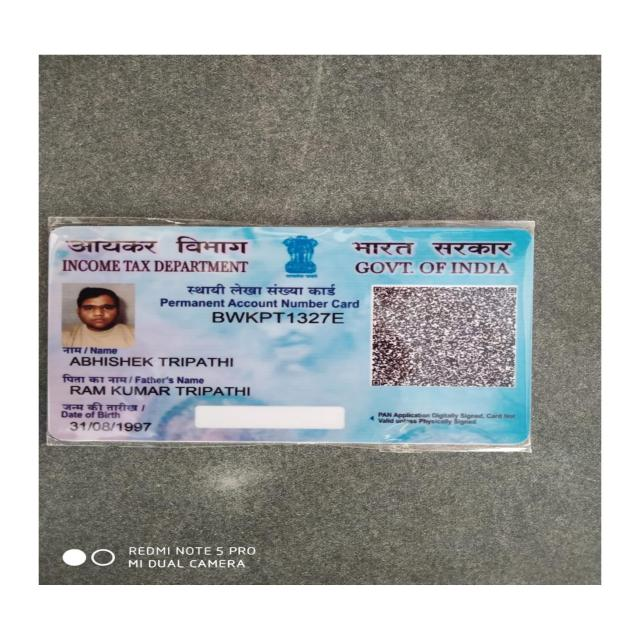pan_card: (48, 226, 530, 443)
